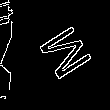M_SW: (24, 18, 89, 84)
